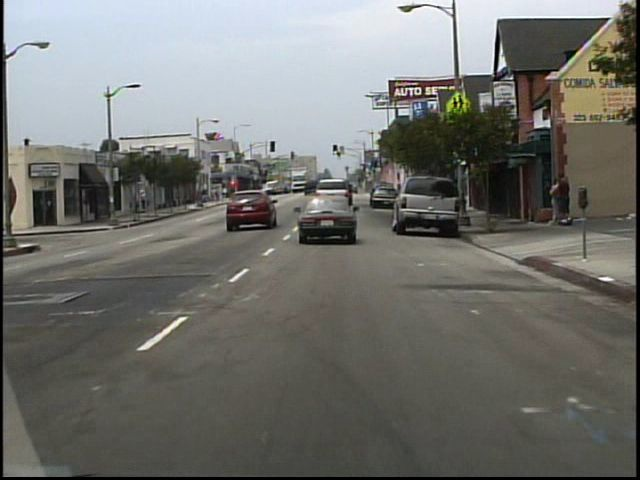person: (556, 173, 572, 226), (548, 178, 563, 227), (139, 187, 150, 214)
